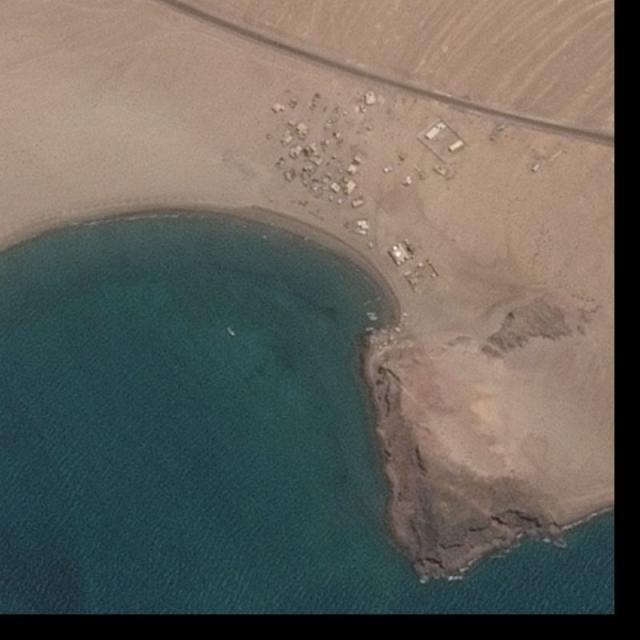ship: (226, 327, 236, 337), (366, 311, 376, 317), (370, 316, 378, 321), (365, 301, 372, 306), (366, 327, 374, 331)
